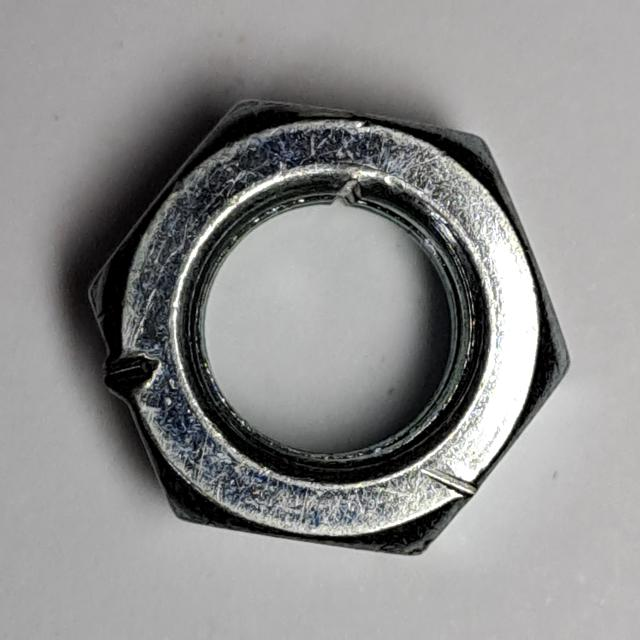Scratches: (70, 89, 584, 570)
